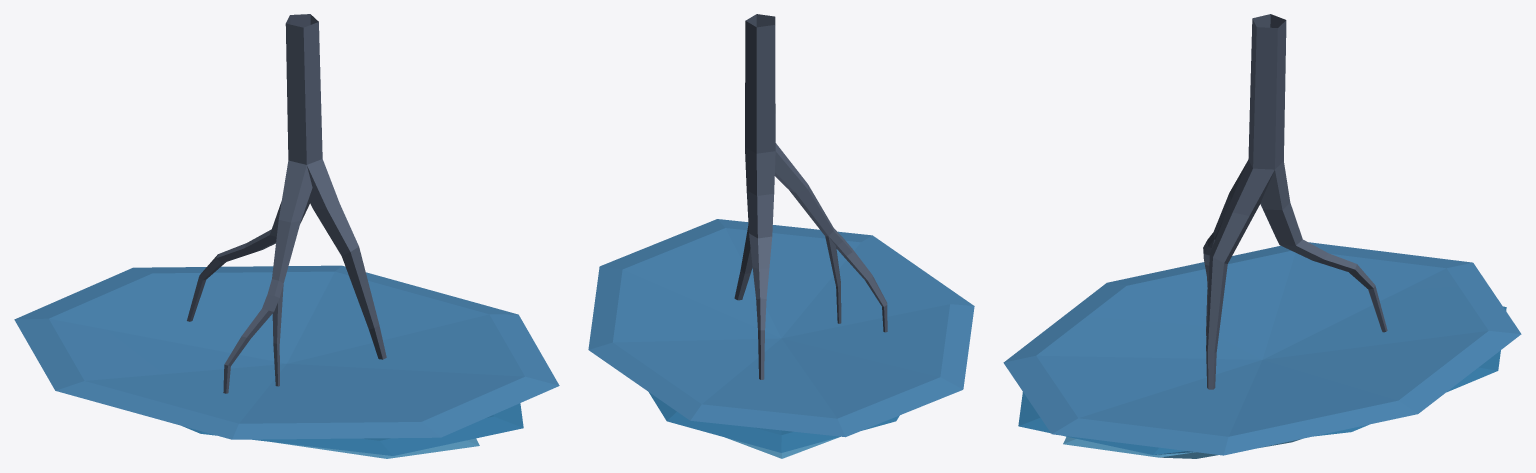
Rendered from sp_plant08.glb.
The picture shows the model from 3 angles, left to right: view 1: azimuth 30°, elevation 25°; view 2: azimuth 150°, elevation 25°; view 3: azimuth 270°, elevation 25°; orthographic projection. The views are drawn at different scales.
Visible parts, largest first — view 1: SP_Plant08; view 2: SP_Plant08; view 3: SP_Plant08.
Boxes of the visible parts, x1,y1,x2,y2 form: SP_Plant08: [14, 14, 559, 458]; SP_Plant08: [588, 14, 974, 458]; SP_Plant08: [1003, 14, 1521, 458].
Size of the model in its own units: 42.12 by 37.98 by 43.05.
1 material, 1 textured.
